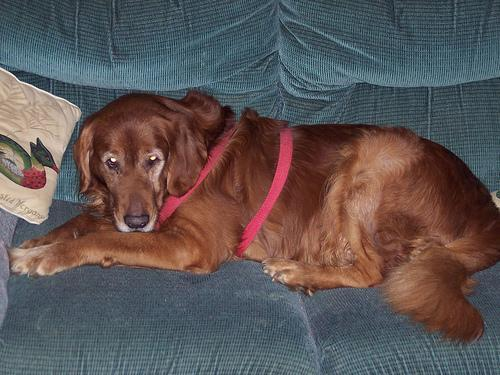Irish_setter: (7, 88, 498, 348)
